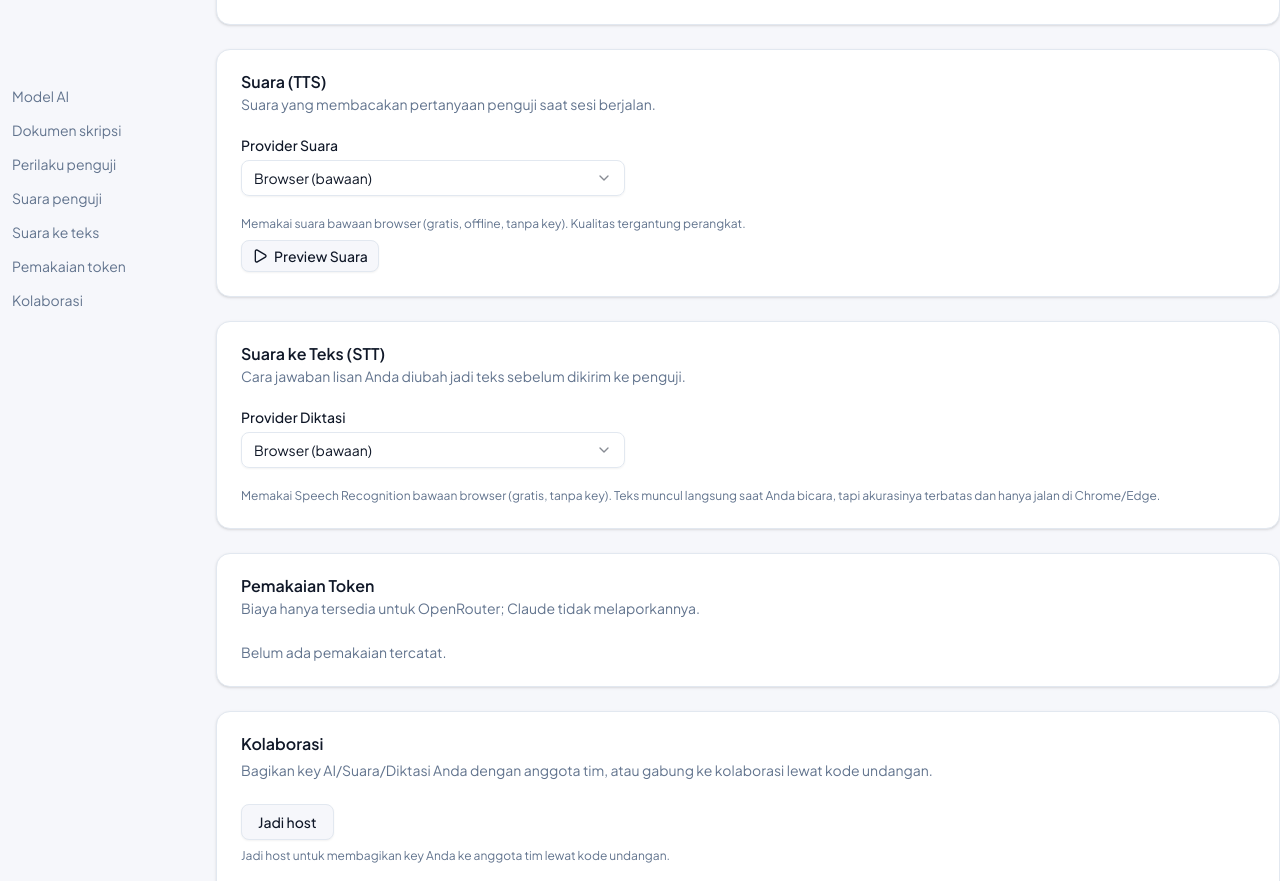
SettingsPage › tests the Whisper connection with the typed key
(page scrolled)
Press the mouse on the dropdown named "Provider Diktasi" at (313, 450), box [241,432,625,468]
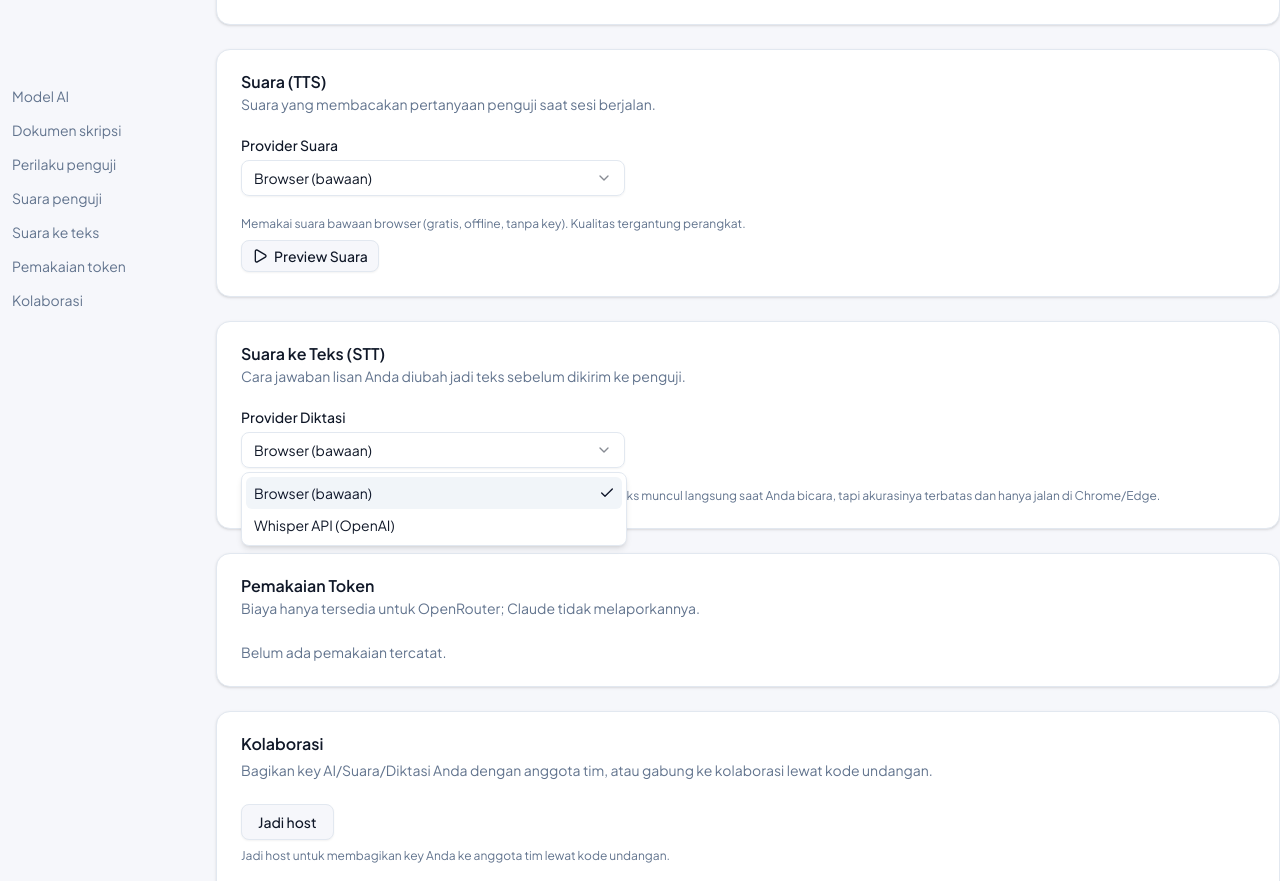
Click the option "Whisper API (OpenAI)".
click(324, 525)  # box [254,516,394,534]
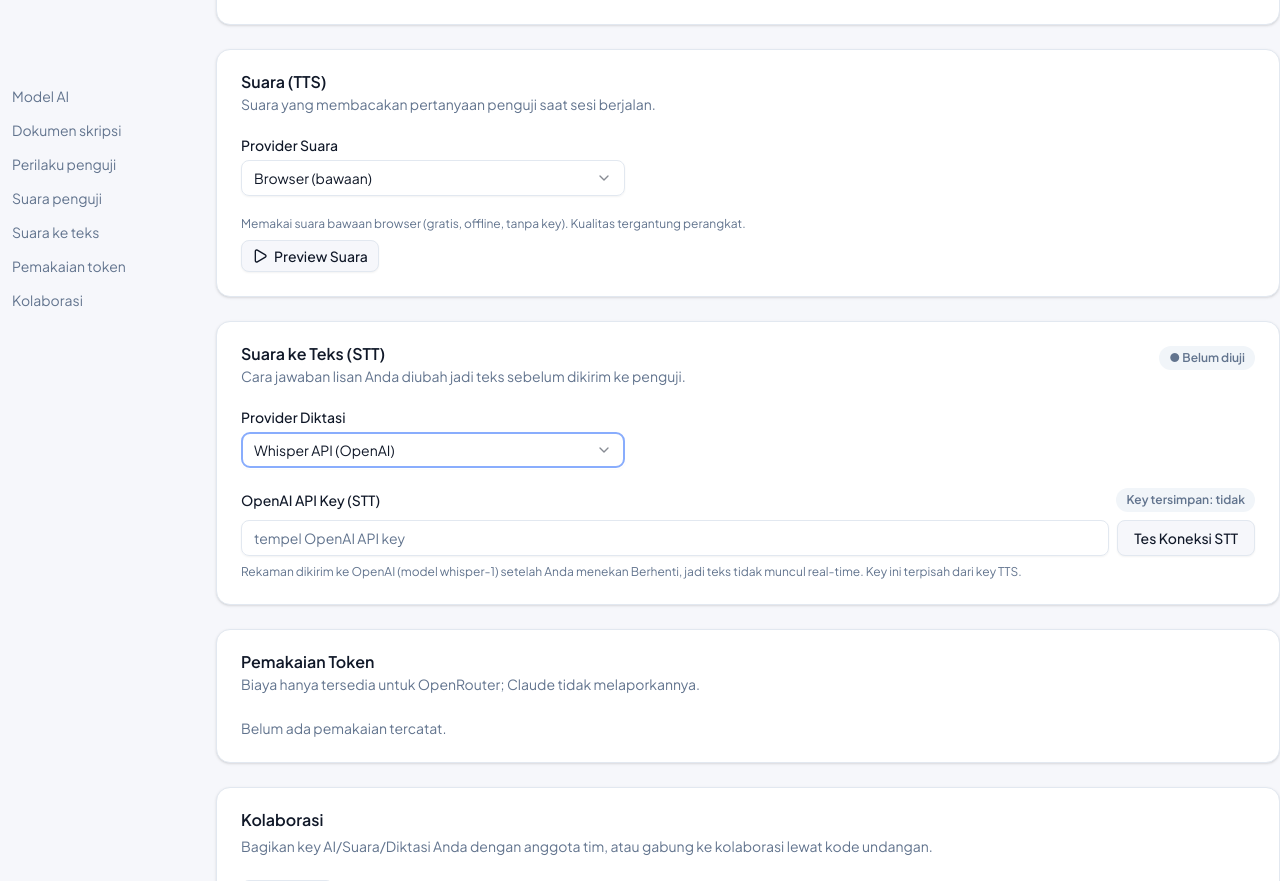
Type "sk-typed" into the password field with placeholder "tempel OpenAI API key".
click(675, 538); type("sk-typed")  # box [241,520,1109,556]
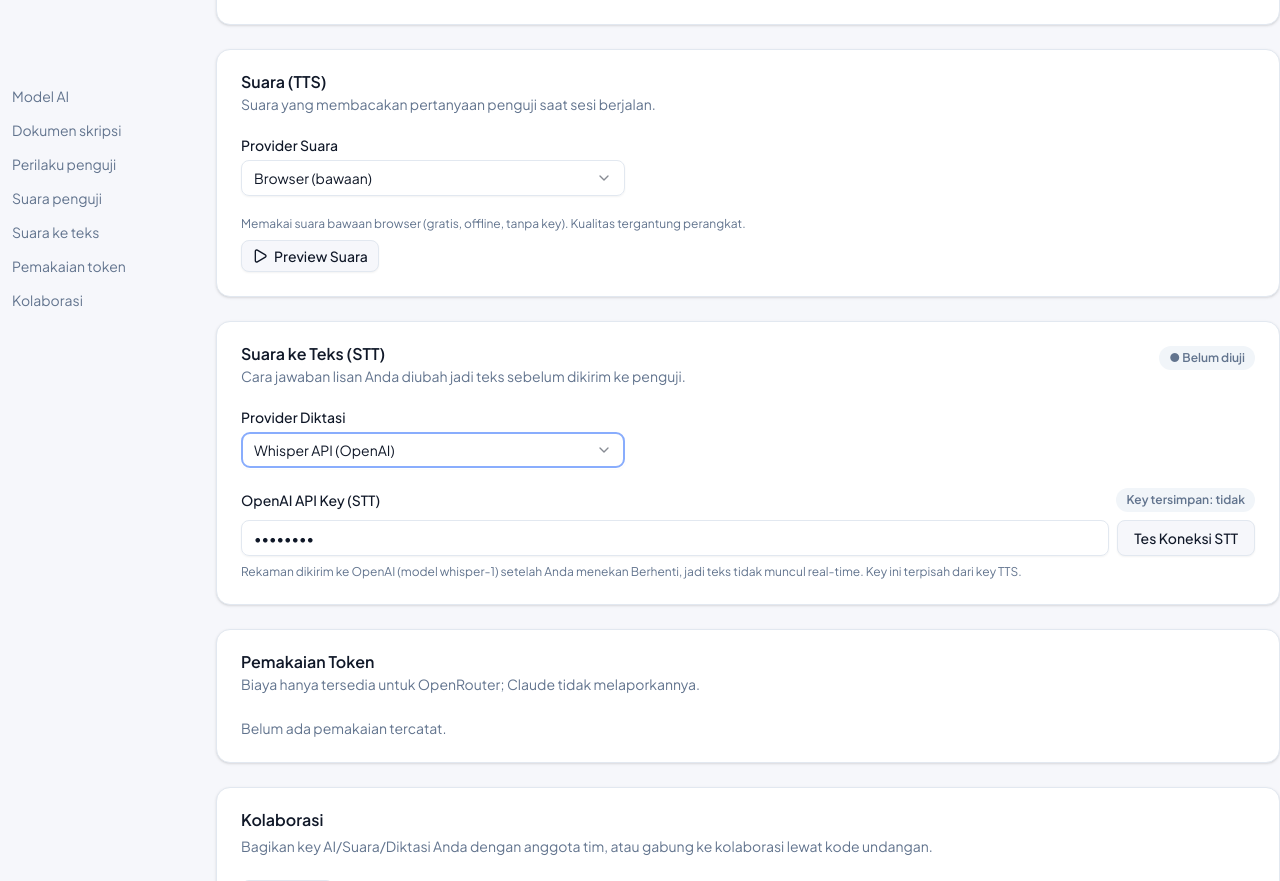
Click the button "Tes Koneksi STT".
click(1186, 538)  # box [1117,520,1255,556]
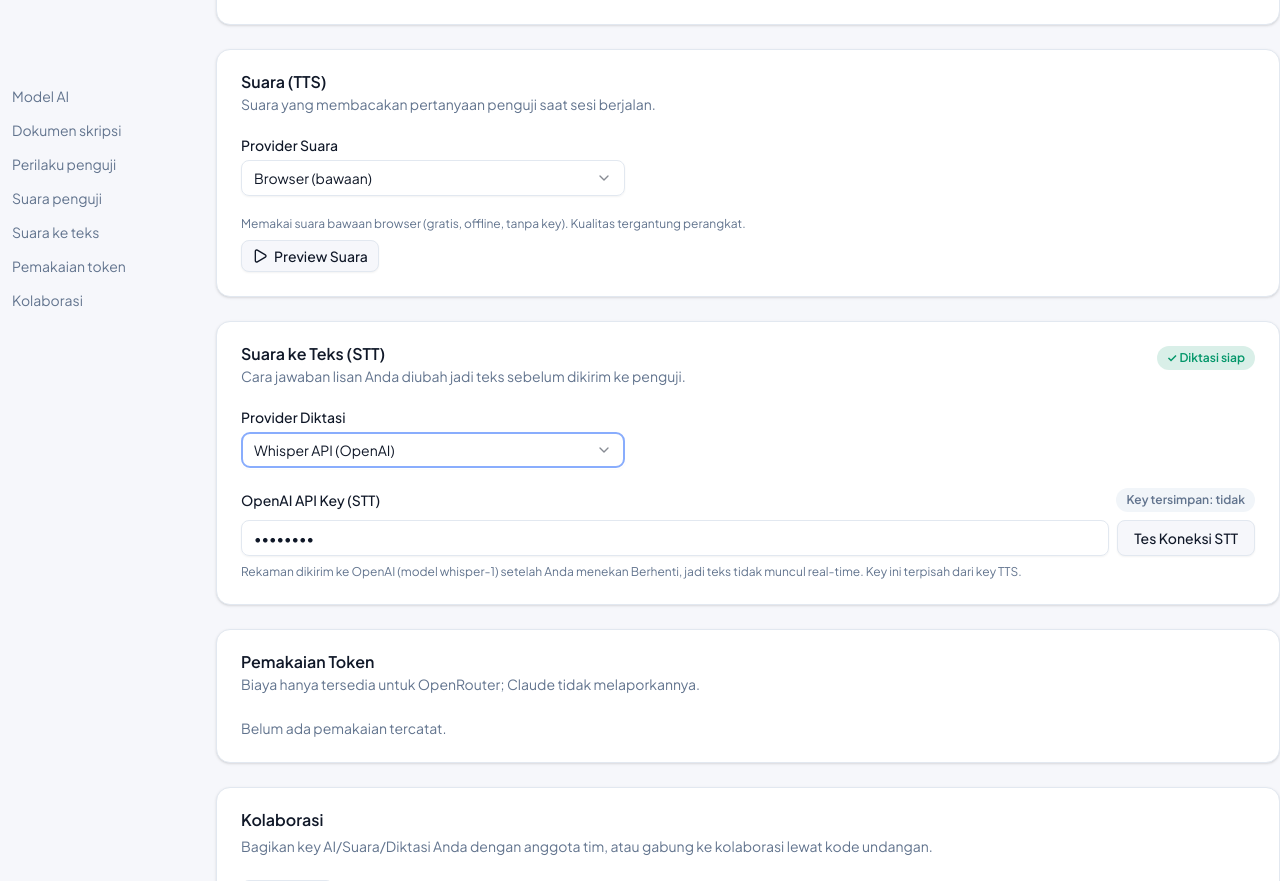
Check: the text "✓ Diktasi siap" is shown, box [1157,346,1255,370]
